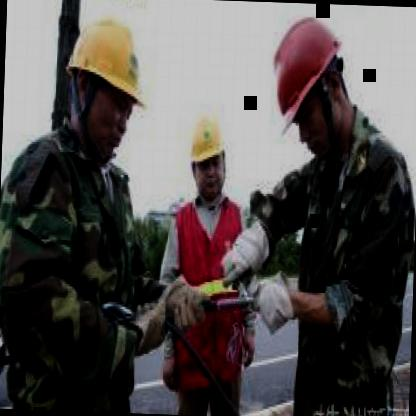helmet: (260, 2, 360, 167), (60, 4, 156, 164), (179, 96, 232, 206)
